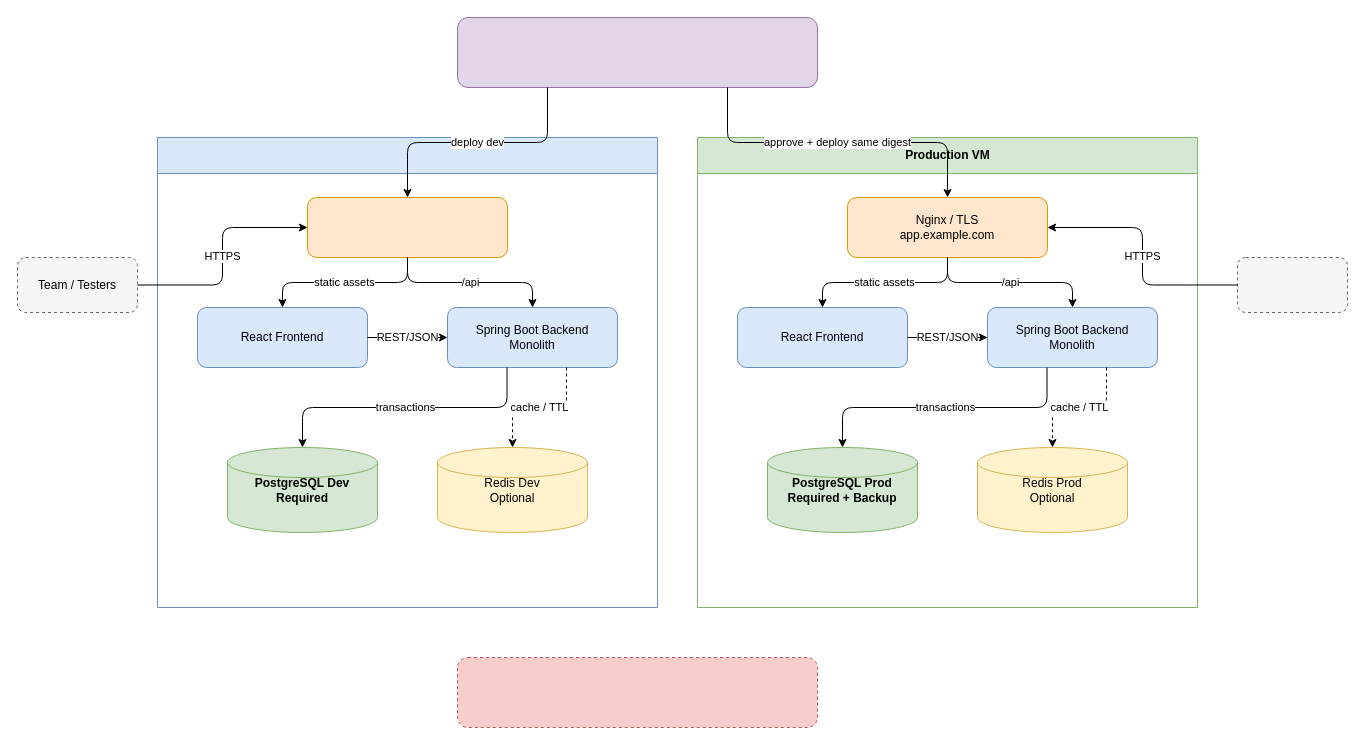
Image size: 1365x745. Some labels were removed from this diagram. The shapes that lost their labels are listed below. From the top down, each one's box as (x1, y1, x2, y2) in pixels, then its label:
(456, 16, 818, 88): GitHub Actions + Container Registry Build once, promote the same image digest
(306, 196, 508, 258): Nginx / TLS dev.example.com
(1236, 256, 1348, 312): Users
(156, 136, 658, 608): Development VM
(456, 656, 818, 728): Do not install by default Nacos · Elasticsearch · RabbitMQ
